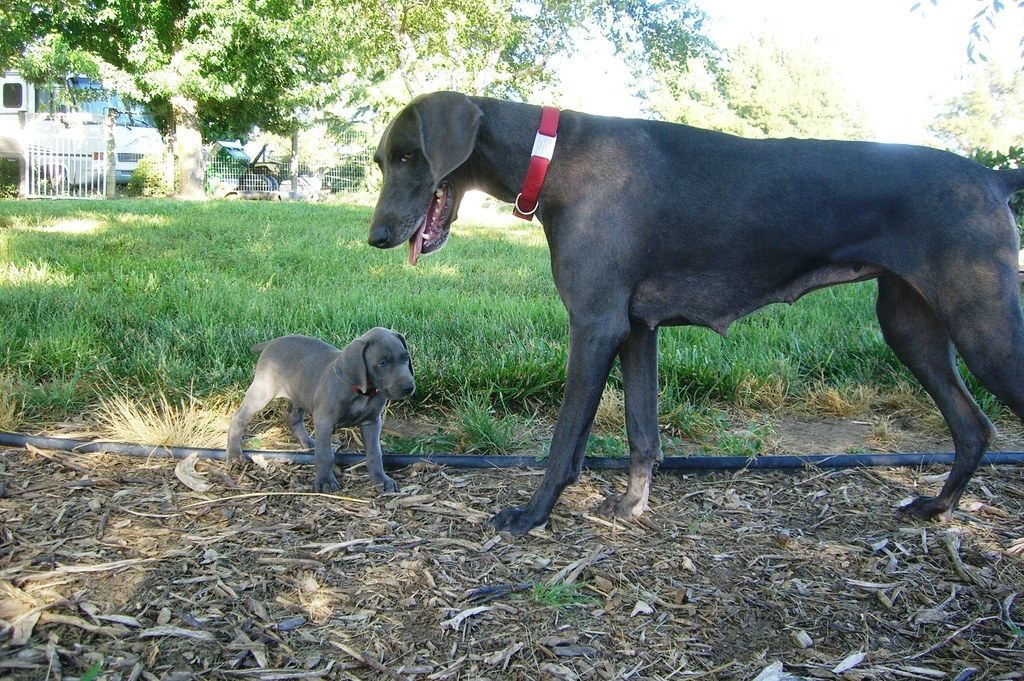Tree: (0, 0, 1023, 175)
